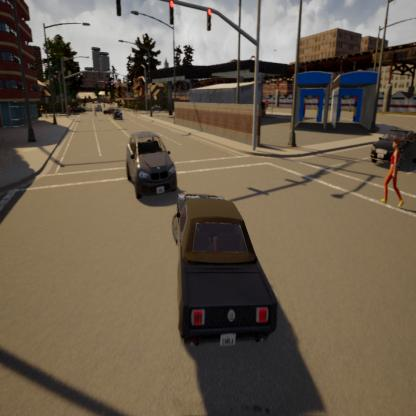Cars: (169, 185, 289, 350), (120, 124, 181, 199), (365, 117, 416, 177), (112, 102, 125, 127)
Pedestrian: (380, 140, 407, 221)
